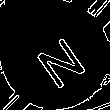N_NW: (24, 23, 86, 87)
